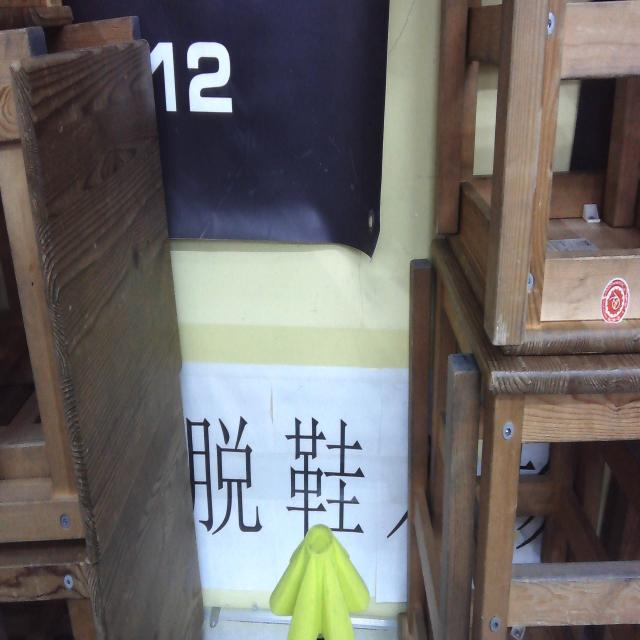Yellow-Stake-Head: (269, 524, 370, 640)
